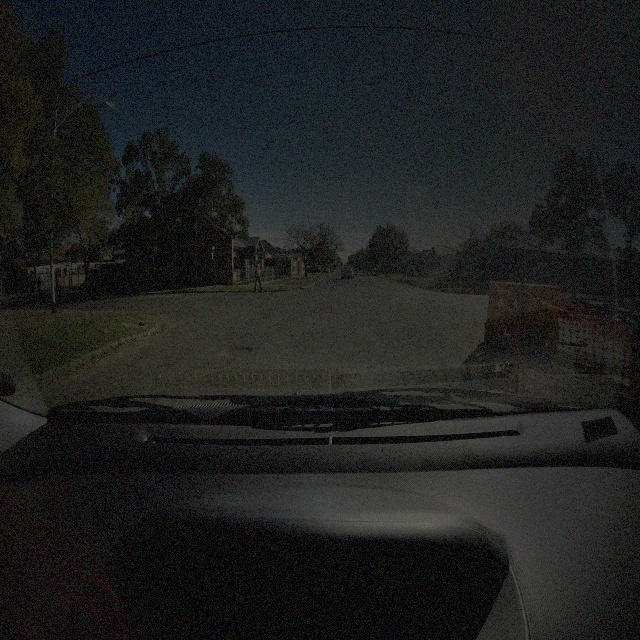pothole: (222, 346, 252, 359)
